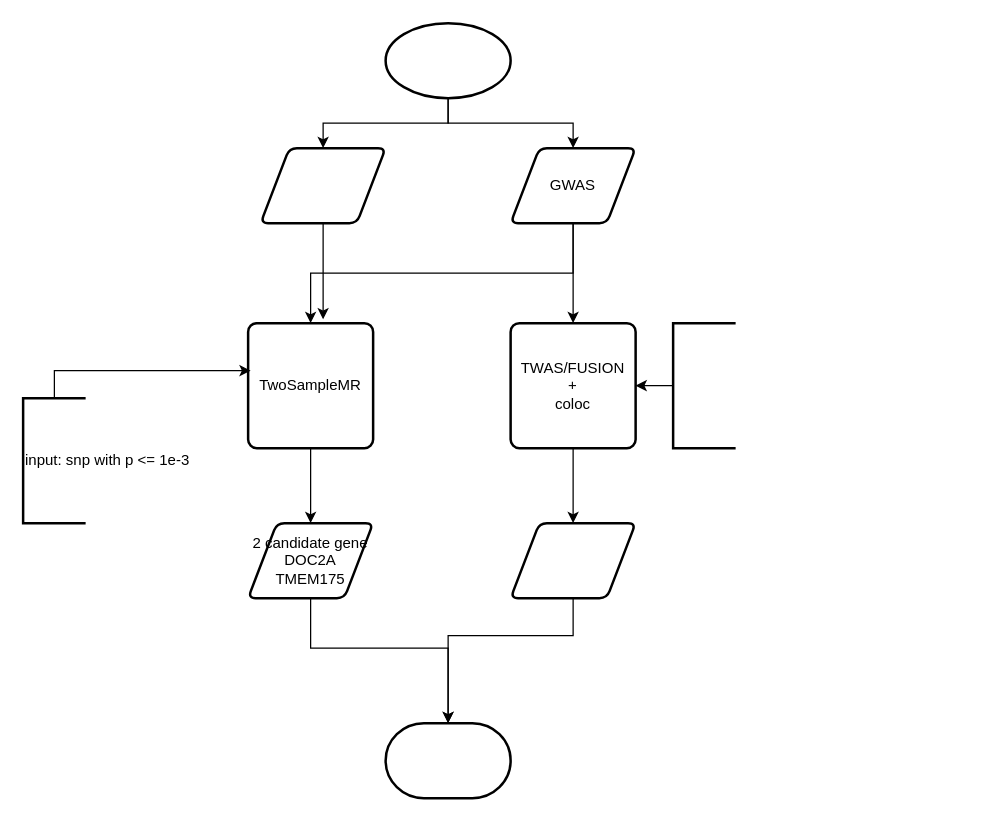
This 993x820 diagram has some shape labels left out. Here are the shapes that lost their labels. From the top down, the centre of each, then its label:
At (322,185): "pQTL".
At (703,385): "weights:Brain(DLPFC) ,provided by FUSION".
